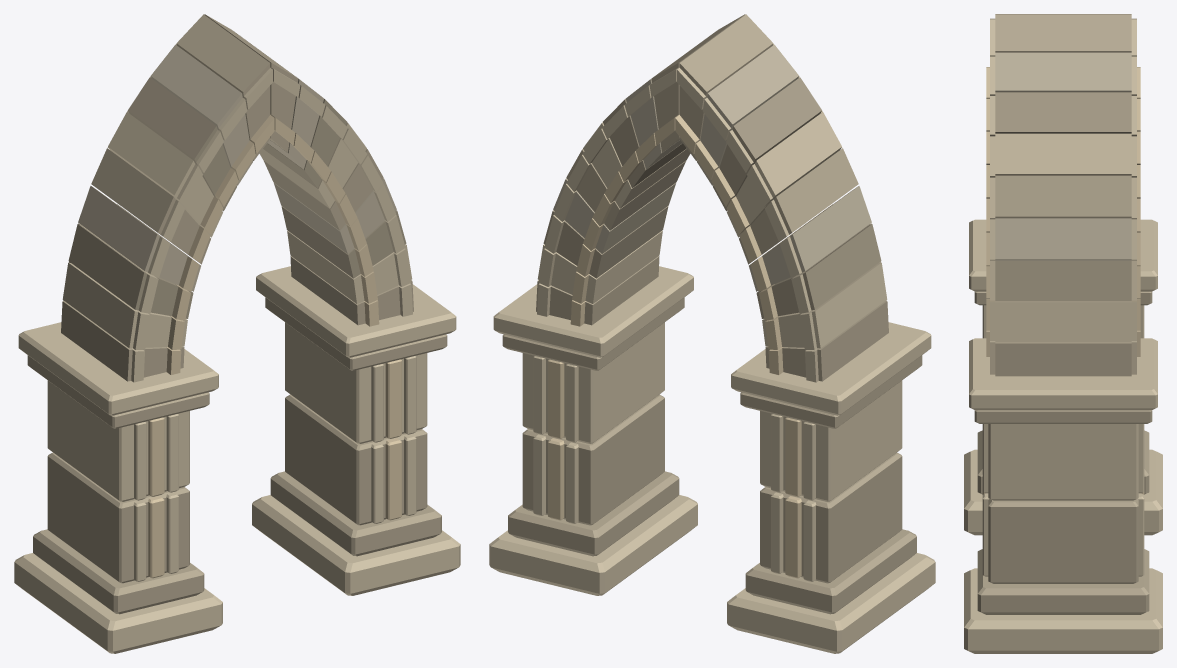
File: Arch_Window_2m.fbx
3 views of the same model, side by side, from view 1: azimuth 30°, elevation 25°; view 2: azimuth 150°, elevation 25°; view 3: azimuth 270°, elevation 25° (orthographic). The views are drawn at different scales.
Visible parts, largest first — view 1: Arch_Window_2m; view 2: Arch_Window_2m; view 3: Arch_Window_2m.
Part boxes in pixels (bbox=[...]): Arch_Window_2m: bbox=[14, 14, 460, 653]; Arch_Window_2m: bbox=[489, 14, 935, 653]; Arch_Window_2m: bbox=[964, 14, 1162, 653].
Size of the model in its own units: 2.14 by 3.14 by 1.02.
